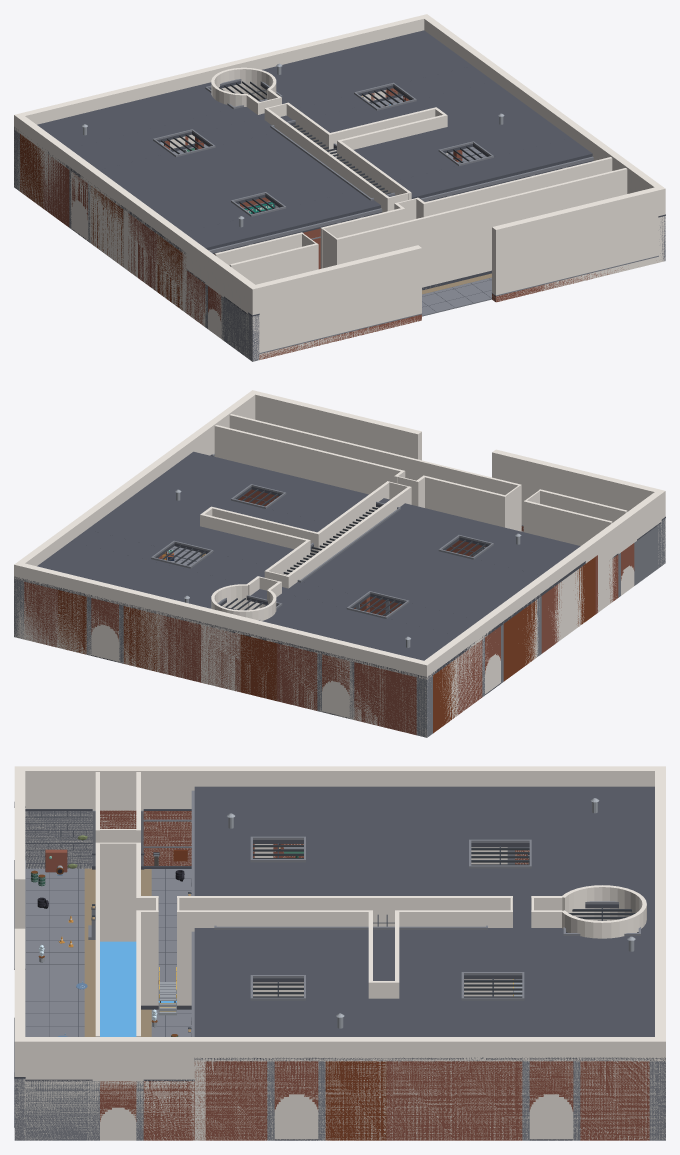
File: CatCafe_Sewer_SetV32.glb
The picture shows the model from 3 angles, top to bottom: view 1: azimuth 30°, elevation 25°; view 2: azimuth 150°, elevation 25°; view 3: azimuth 270°, elevation 25°; orthographic projection. The views are drawn at different scales.
Visible parts, largest first — view 1: CatCafe_Sewer_SetV32_031_Roof, CatCafe_Sewer_SetV32_027_Walls_Barrier, CatCafe_Sewer_SetV32_028_Canals_Barrier, CatCafe_Sewer_SetV32_004_Wall, CatCafe_Sewer_SetV32_006_Wall, CatCafe_Sewer_SetV32, CatCafe_Sewer_SetV32_029_TunnelFront, CatCafe_Sewer_SetV32_026_TownWall, CatCafe_Sewer_SetV32_001_Wall, CatCafe_Sewer_SetV32_005_Wall, CatCafe_Sewer_SetV32_025_TownWall, CatCafe_Sewer_SetV32_002_Wall (+3 smaller); view 2: CatCafe_Sewer_SetV32_031_Roof, CatCafe_Sewer_SetV32_027_Walls_Barrier, CatCafe_Sewer_SetV32_028_Canals_Barrier, CatCafe_Sewer_SetV32_023_Wall, CatCafe_Sewer_SetV32_022_Wall, CatCafe_Sewer_SetV32_024_Wall, CatCafe_Sewer_SetV32_021_Wall, CatCafe_Sewer_SetV32_006_Wall, CatCafe_Sewer_SetV32_004_Wall, CatCafe_Sewer_SetV32_005_Wall, CatCafe_Sewer_SetV32_032_Culvert, CatCafe_Sewer_SetV32_019_TunnelMouth (+8 smaller); view 3: CatCafe_Sewer_SetV32_031_Roof, CatCafe_Sewer_SetV32_027_Walls_Barrier, CatCafe_Sewer_SetV32_028_Canals_Barrier, CatCafe_Sewer_SetV32_015_Wall, CatCafe_Sewer_SetV32, CatCafe_Sewer_SetV32_016_Wall, CatCafe_Sewer_SetV32_014_Wall, CatCafe_Sewer_SetV32_010_Wall, CatCafe_Sewer_SetV32_001_Wall, CatCafe_Sewer_SetV32_028_Canals_Water, CatCafe_Sewer_SetV32_011_Wall, CatCafe_Sewer_SetV32_013_TunnelMouth (+9 smaller).
Part boxes in pixels (x1=…): CatCafe_Sewer_SetV32_031_Roof: x1=14, y1=30, x2=592, y2=254; CatCafe_Sewer_SetV32_027_Walls_Barrier: x1=14, y1=14, x2=665, y2=361; CatCafe_Sewer_SetV32_028_Canals_Barrier: x1=211, y1=67, x2=627, y2=288; CatCafe_Sewer_SetV32_004_Wall: x1=128, y1=213, x2=182, y2=310; CatCafe_Sewer_SetV32_006_Wall: x1=20, y1=134, x2=69, y2=227; CatCafe_Sewer_SetV32: x1=173, y1=96, x2=491, y2=316; CatCafe_Sewer_SetV32_029_TunnelFront: x1=182, y1=156, x2=593, y2=312; CatCafe_Sewer_SetV32_026_TownWall: x1=259, y1=313, x2=422, y2=359; CatCafe_Sewer_SetV32_001_Wall: x1=224, y1=296, x2=248, y2=358; CatCafe_Sewer_SetV32_005_Wall: x1=91, y1=186, x2=123, y2=266; CatCafe_Sewer_SetV32_025_TownWall: x1=491, y1=255, x2=658, y2=302; CatCafe_Sewer_SetV32_002_Wall: x1=186, y1=269, x2=205, y2=326; CatCafe_Sewer_SetV32_031_Roof: x1=14, y1=451, x2=585, y2=679; CatCafe_Sewer_SetV32_027_Walls_Barrier: x1=14, y1=390, x2=665, y2=736; CatCafe_Sewer_SetV32_028_Canals_Barrier: x1=200, y1=414, x2=627, y2=620; CatCafe_Sewer_SetV32_023_Wall: x1=240, y1=634, x2=317, y2=710; CatCafe_Sewer_SetV32_022_Wall: x1=123, y1=606, x2=200, y2=682; CatCafe_Sewer_SetV32_024_Wall: x1=354, y1=662, x2=416, y2=735; CatCafe_Sewer_SetV32_021_Wall: x1=24, y1=581, x2=86, y2=654; CatCafe_Sewer_SetV32_006_Wall: x1=433, y1=640, x2=482, y2=733; CatCafe_Sewer_SetV32_004_Wall: x1=541, y1=557, x2=595, y2=653; CatCafe_Sewer_SetV32_005_Wall: x1=503, y1=600, x2=536, y2=681; CatCafe_Sewer_SetV32_032_Culvert: x1=201, y1=626, x2=239, y2=691; CatCafe_Sewer_SetV32_019_TunnelMouth: x1=86, y1=597, x2=123, y2=663; CatCafe_Sewer_SetV32_031_Roof: x1=194, y1=786, x2=665, y2=1061; CatCafe_Sewer_SetV32_027_Walls_Barrier: x1=14, y1=766, x2=665, y2=1140; CatCafe_Sewer_SetV32_028_Canals_Barrier: x1=95, y1=772, x2=646, y2=1036; CatCafe_Sewer_SetV32_015_Wall: x1=325, y1=1061, x2=522, y2=1140; CatCafe_Sewer_SetV32: x1=25, y1=868, x2=522, y2=1036; CatCafe_Sewer_SetV32_016_Wall: x1=580, y1=1061, x2=649, y2=1140; CatCafe_Sewer_SetV32_014_Wall: x1=205, y1=1061, x2=267, y2=1140; CatCafe_Sewer_SetV32_010_Wall: x1=25, y1=1079, x2=92, y2=1140; CatCafe_Sewer_SetV32_001_Wall: x1=25, y1=809, x2=92, y2=868; CatCafe_Sewer_SetV32_028_Canals_Water: x1=100, y1=941, x2=176, y2=1036; CatCafe_Sewer_SetV32_011_Wall: x1=143, y1=1079, x2=194, y2=1140; CatCafe_Sewer_SetV32_013_TunnelMouth: x1=522, y1=1061, x2=580, y2=1140.
Size of the model in its own units: 179 by 30 by 179.
Materials: 1 (1 with a texture image).
